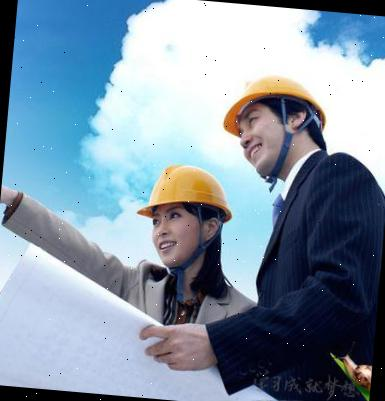helmet: (214, 69, 332, 144), (134, 158, 239, 232)
no_wear: (251, 184, 385, 401), (124, 260, 247, 334)
